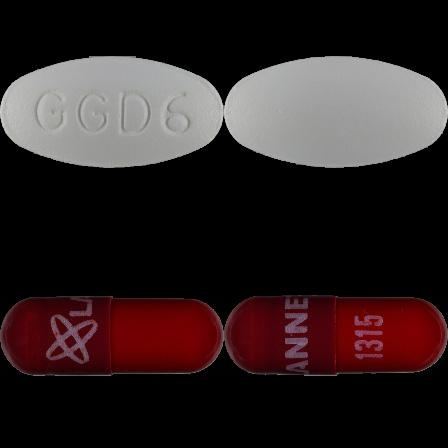50090-0959: (0, 0, 224, 224)
